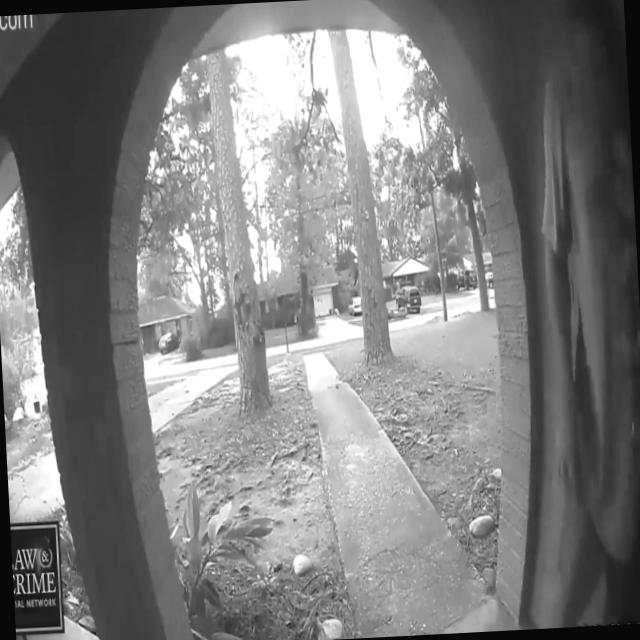weapon: (499, 0, 640, 629)
